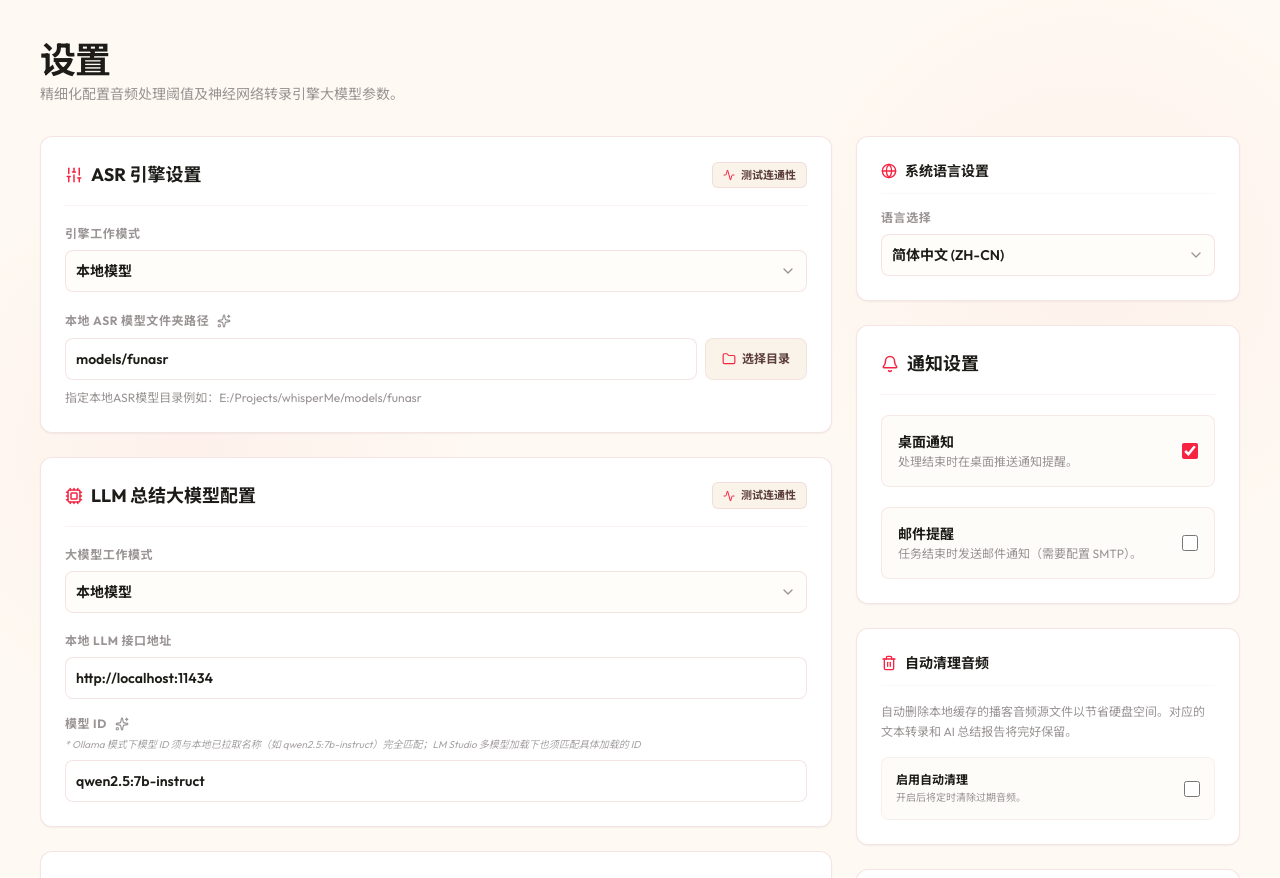
Test: SettingsView UI implementation › opens Agent Setup Prompt modal for ASR and Ollama when clicking info buttons
Note: Click ASR help button
Click the button titled "获取配置 AI Agent 提示词" next to "本地 ASR 模型文件夹路径": [224, 321] box 215,312 -> 233,330
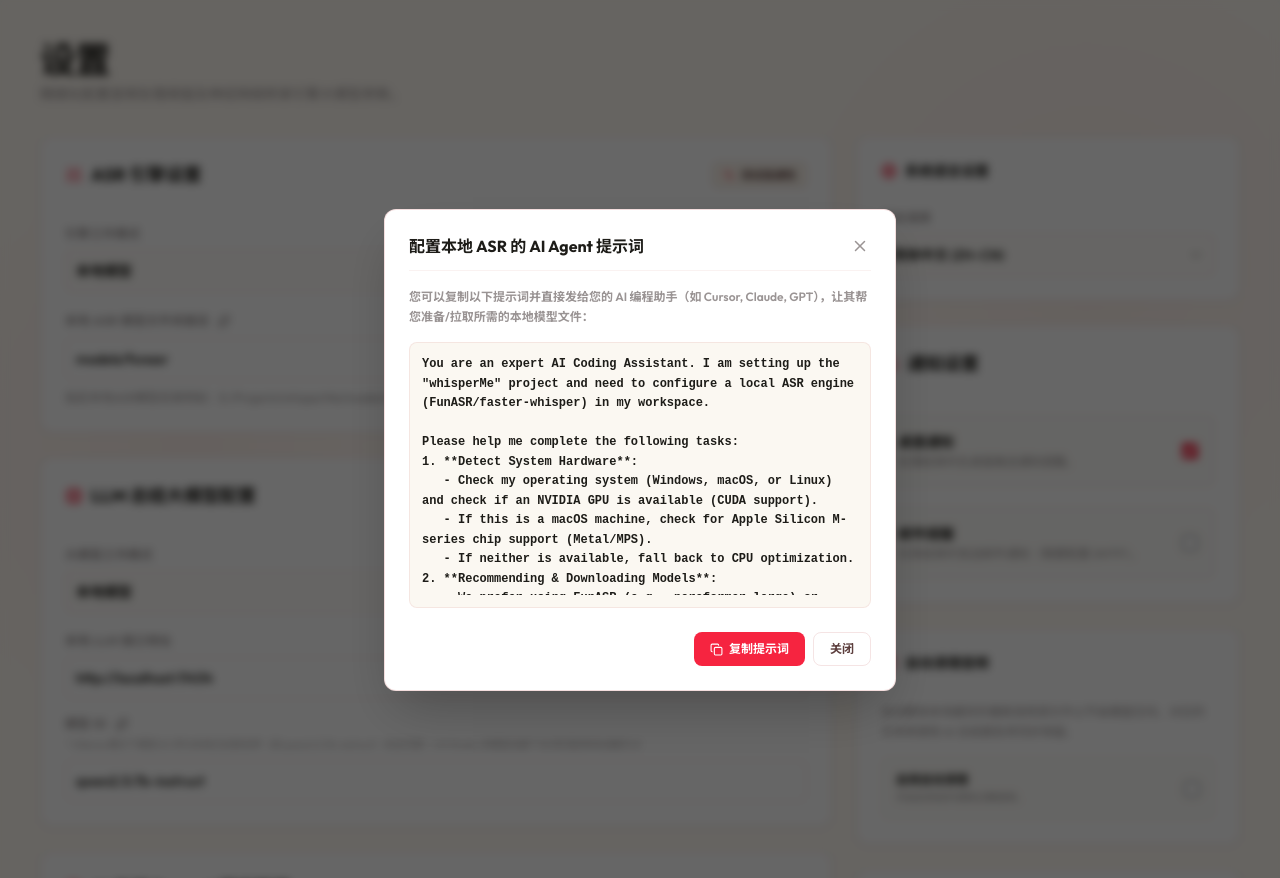
Expected: the text "指定本地ASR模型目录例如：E:/Projects/whisperMe/models/funasr" is shown, 65,390 -> 422,405
Expected: the heading "配置本地 ASR 的 AI Agent 提示词" is shown, 409,234 -> 644,258
Note: Close modal
Click the button "关闭": [842, 649] box 813,632 -> 871,666
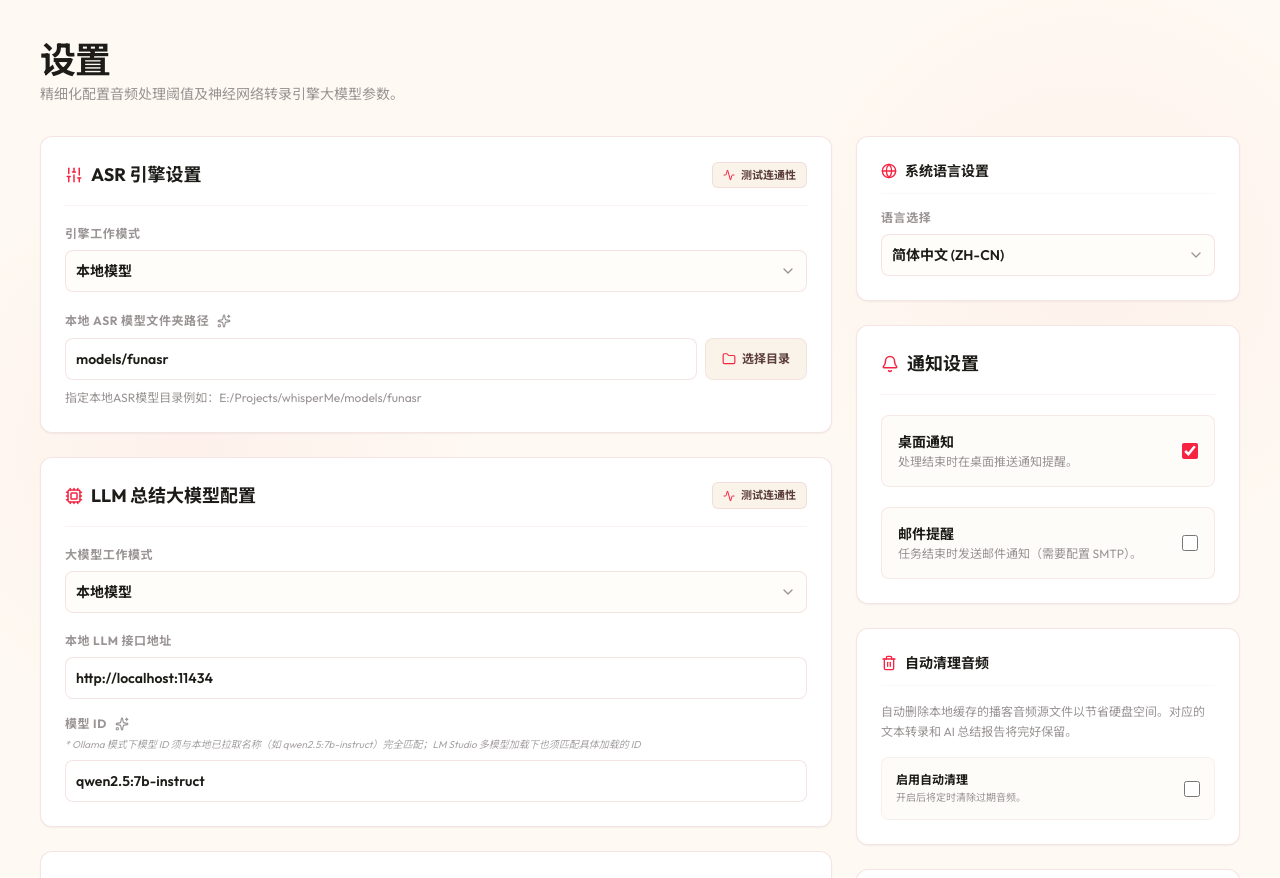
Expected: the heading "配置本地 ASR 的 AI Agent 提示词" is gone
Note: Click LLM help button
Click the button titled "获取配置 AI Agent 提示词" below "本地 LLM 接口地址": [122, 724] box 113,714 -> 131,732
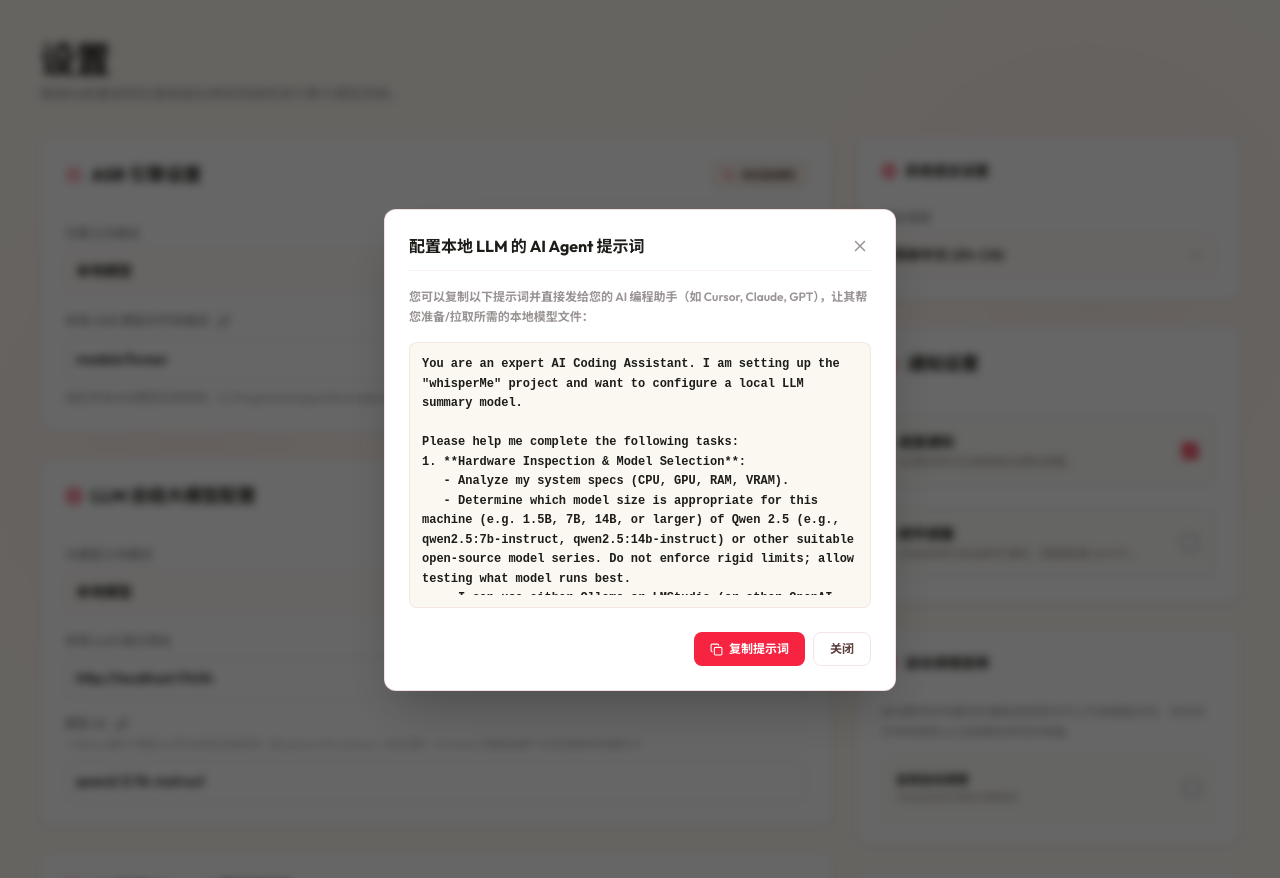
Expected: the heading "配置本地 LLM 的 AI Agent 提示词" is shown, 409,234 -> 644,258
